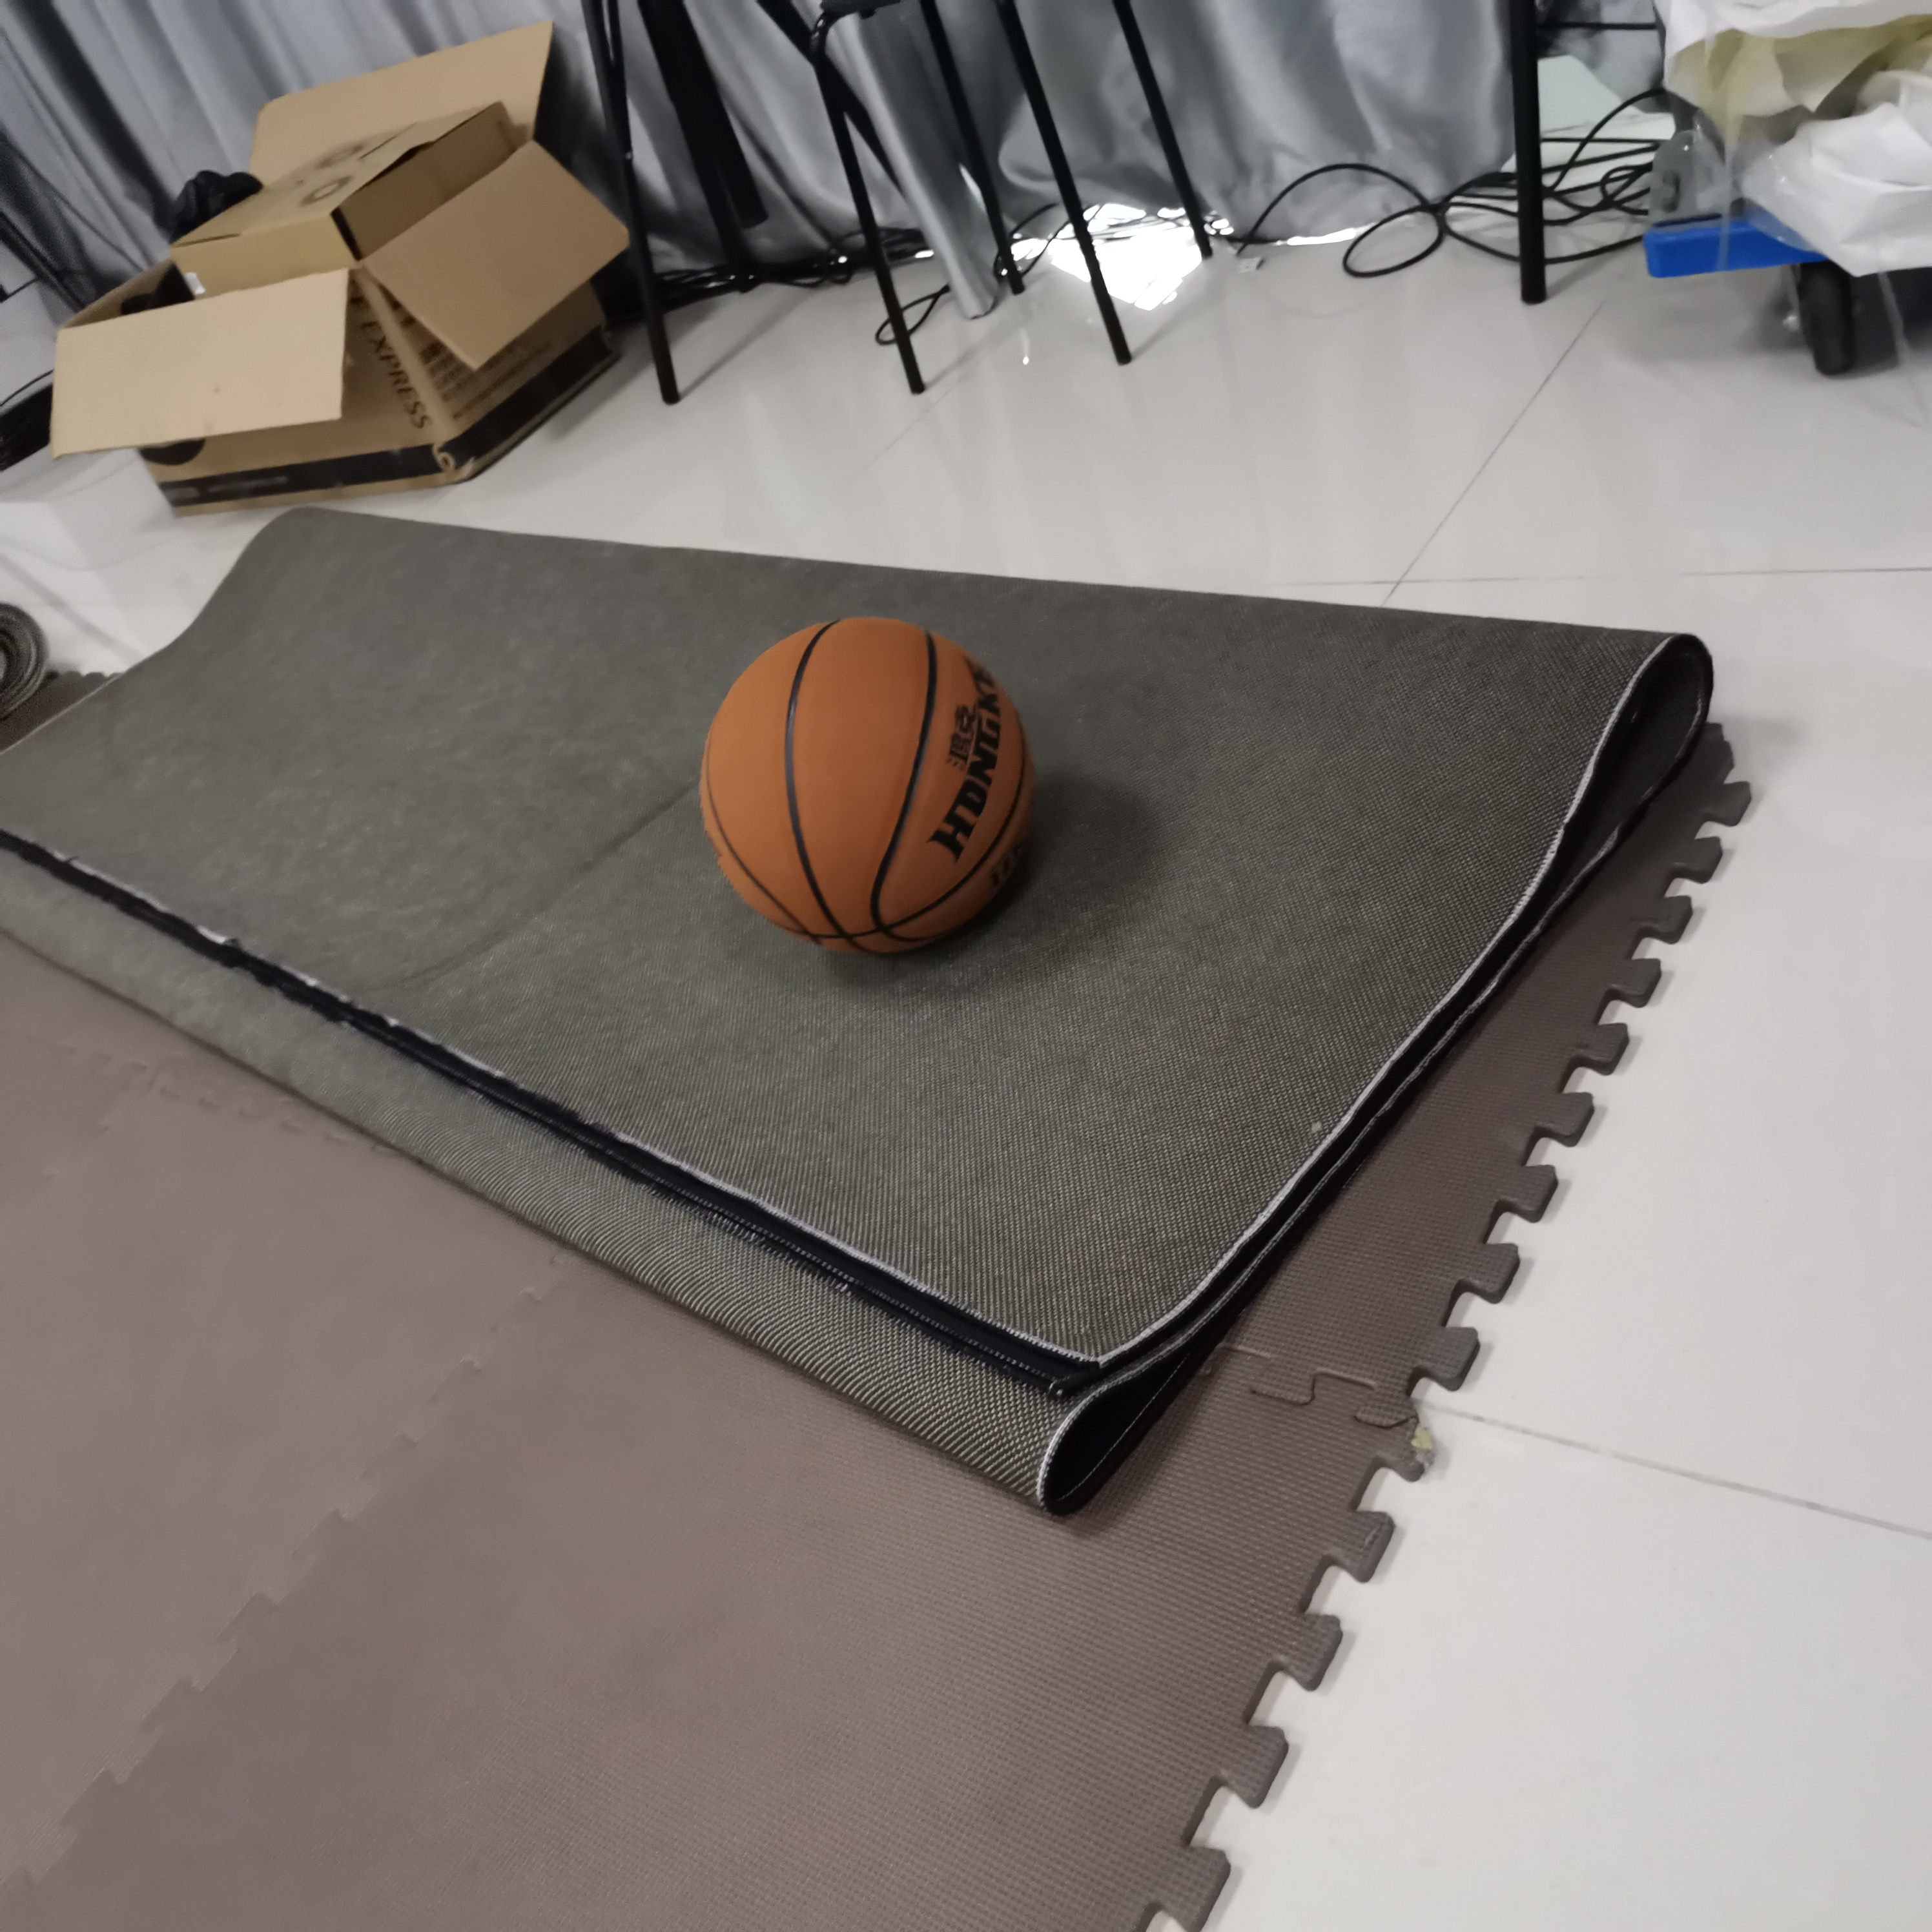basketball: (697, 617, 1033, 955)
